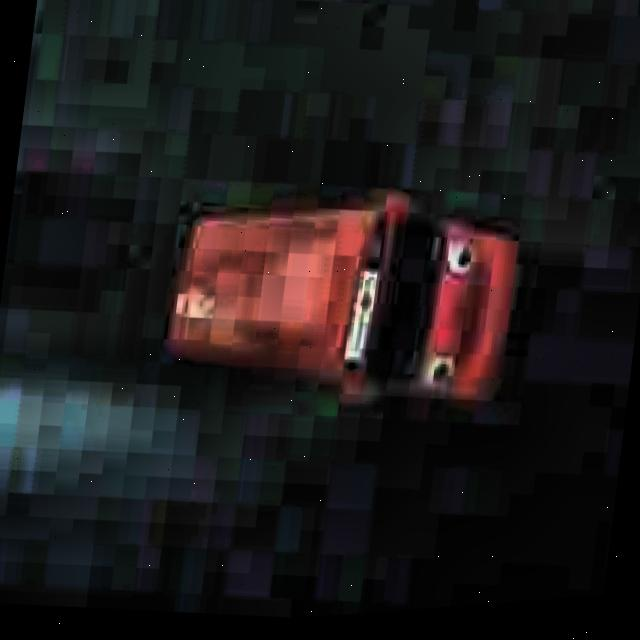bus: (135, 134, 549, 444)
